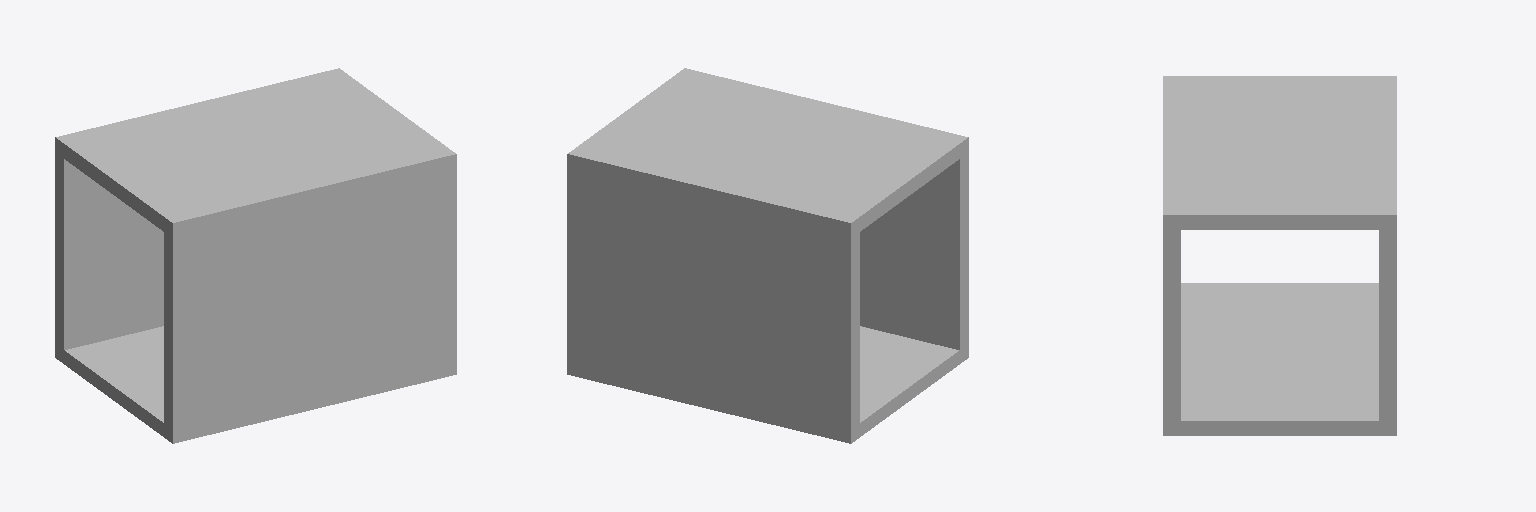
Rendered from Main - Hallway.obj.
3 renders of one model, left to right at view 1: azimuth 30°, elevation 25°; view 2: azimuth 150°, elevation 25°; view 3: azimuth 270°, elevation 25°, orthographic.
Parts seen in each view (by area): view 1: Cube.005_Cube.008; view 2: Cube.005_Cube.008; view 3: Cube.005_Cube.008.
Boxes of the visible parts, box(x1,y1,x2,y2) form: Cube.005_Cube.008: box(55, 68, 456, 443); Cube.005_Cube.008: box(567, 68, 968, 443); Cube.005_Cube.008: box(1163, 76, 1396, 435).
Size of the model in its own units: 2.09 by 1.55 by 1.5.